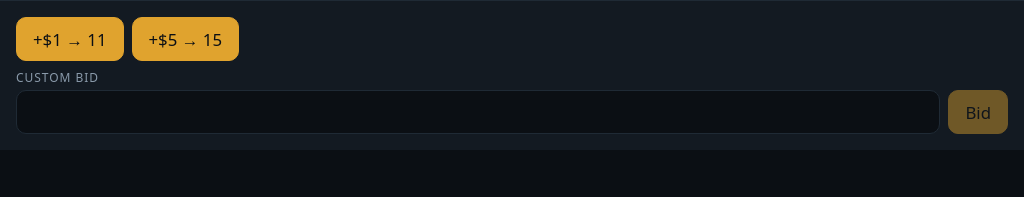
Scenario: BidControls › shows the re-raise message on STALE_PRICE and leaves the control enabled to bid again
Click the button "+$1 → 11" at (70, 39), box x1=16 y1=17 x2=124 y2=61
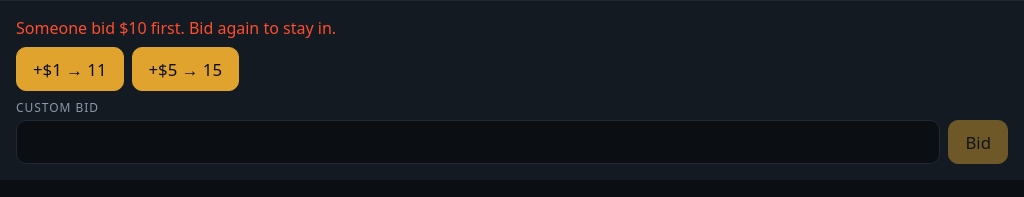
Expected: the button "+$1 → 11" is enabled, x1=16 y1=47 x2=124 y2=91
Now the text "Someone bid $10 first. Bid again to stay in." is shown, box x1=16 y1=17 x2=336 y2=39
